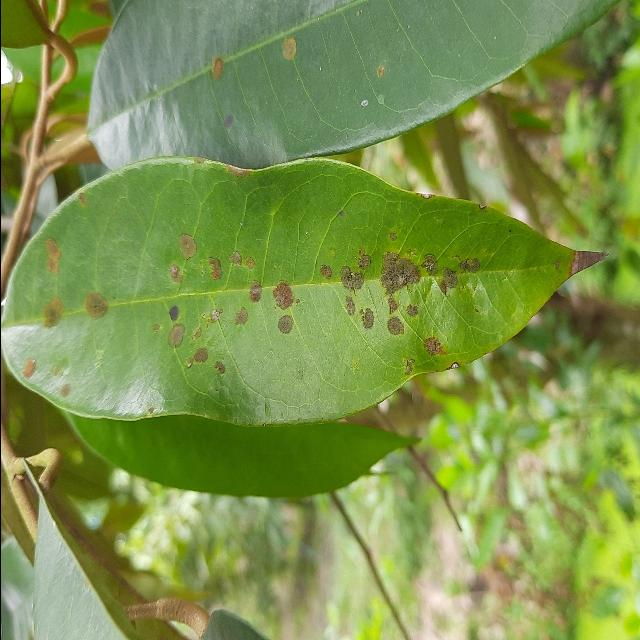Algal Leaf Spot: (0, 153, 616, 437)
